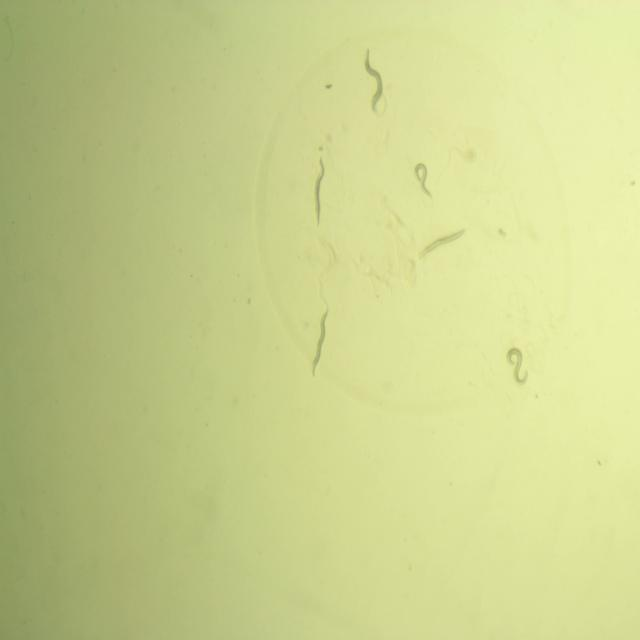worm: (355, 41, 388, 113), (414, 220, 468, 264), (306, 296, 331, 382), (304, 153, 330, 228), (501, 344, 534, 390), (411, 159, 436, 205)
